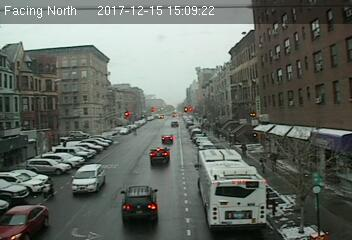bus: (196, 149, 267, 233)
car: (1, 204, 47, 240), (119, 184, 160, 222), (72, 164, 104, 192), (148, 147, 170, 162), (160, 134, 173, 142)
